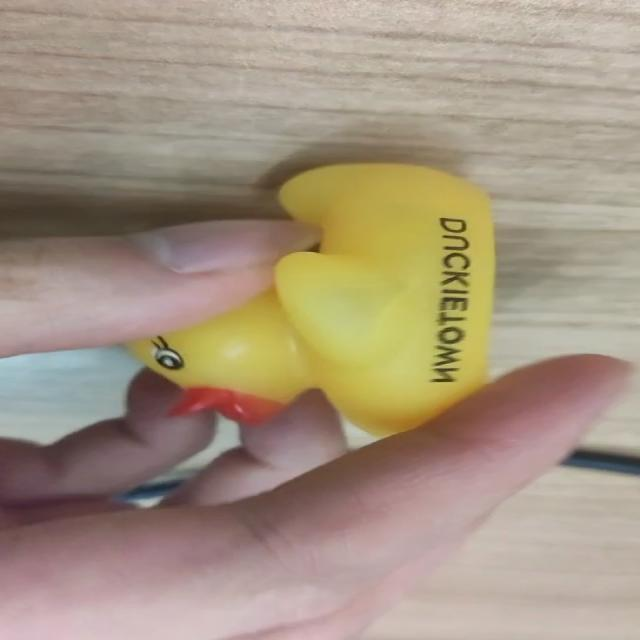rubber-duck: (131, 163, 493, 433)
